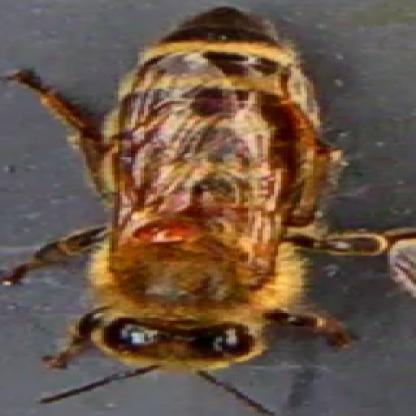bee: (120, 11, 306, 387)
vaoora: (142, 218, 198, 240)
